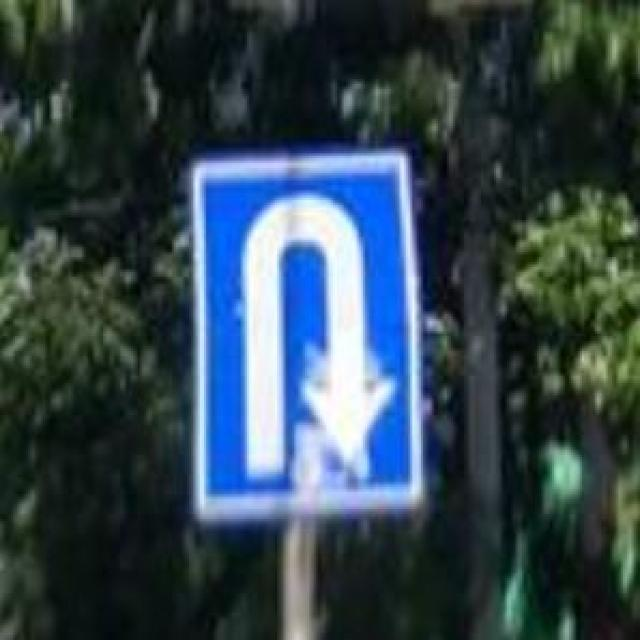traffic sign: (192, 151, 428, 510)
